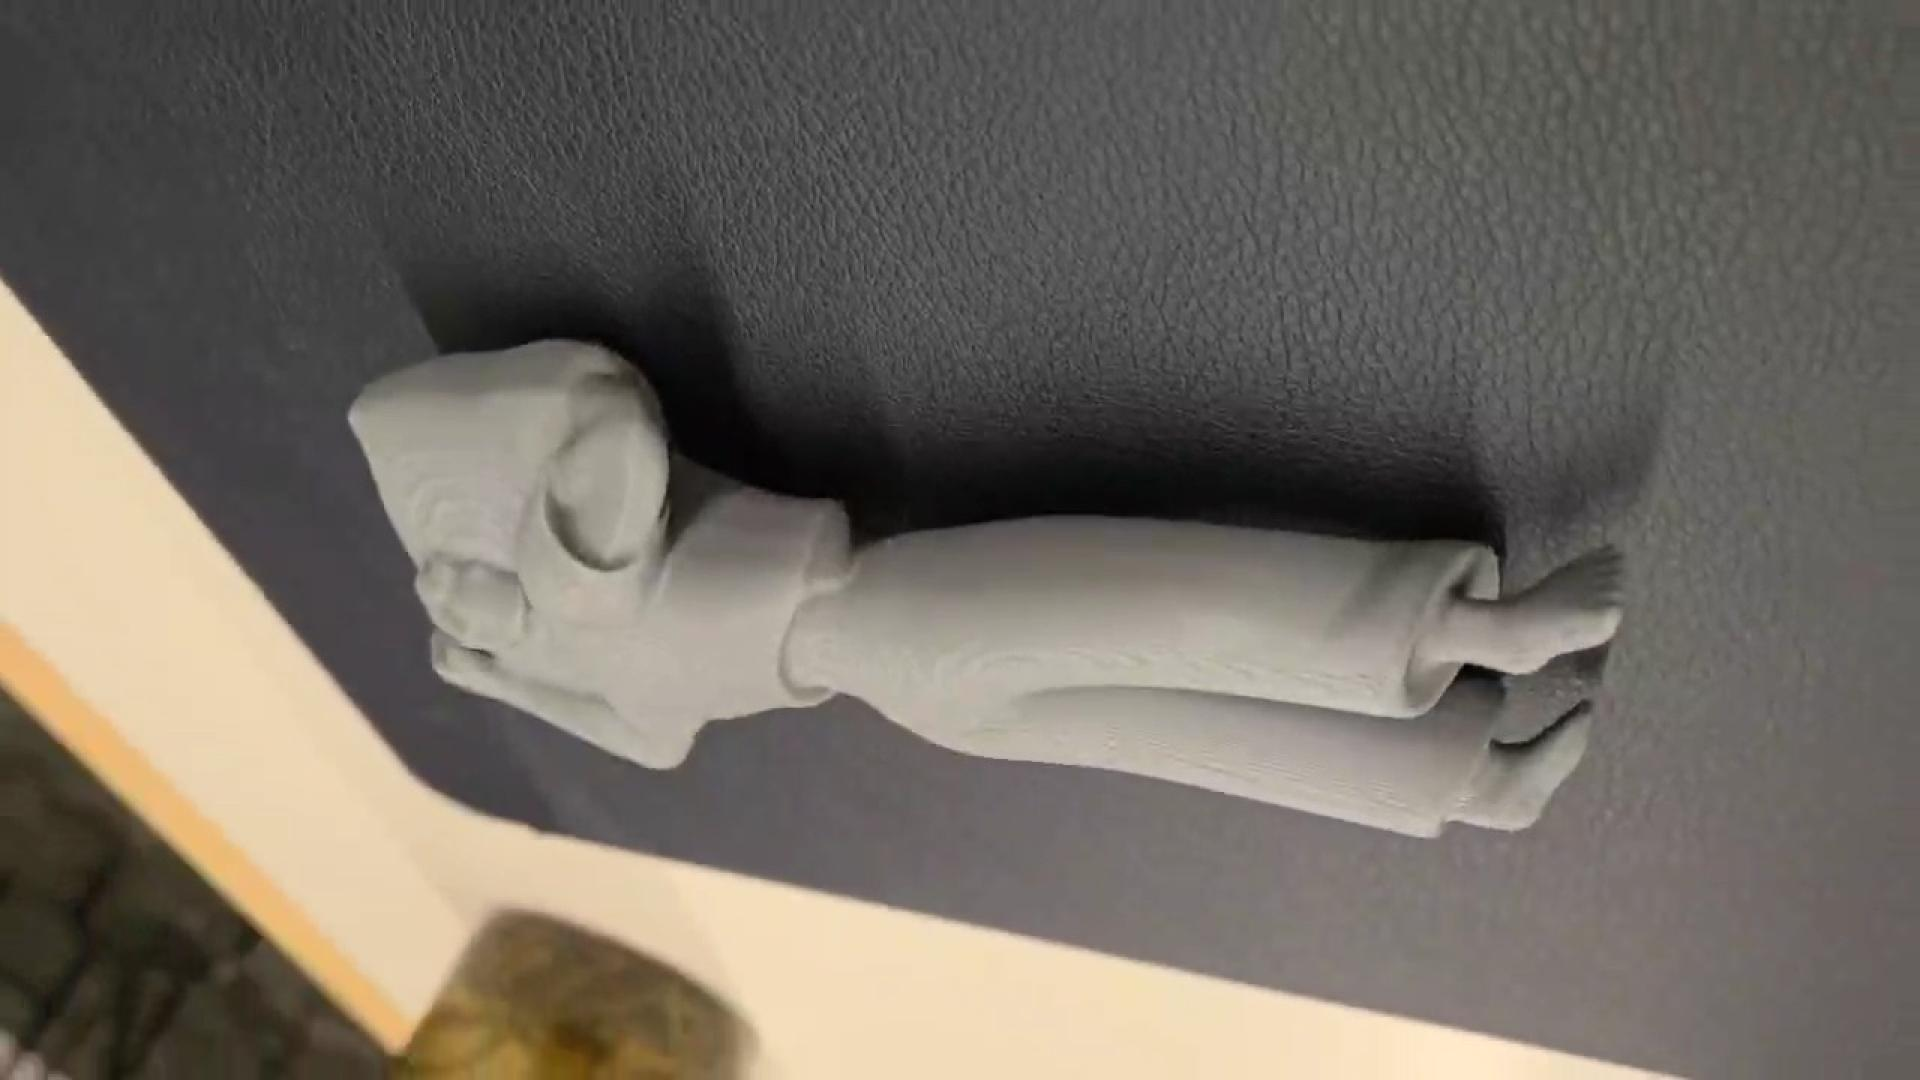Bad-style: (355, 330, 1629, 844)
